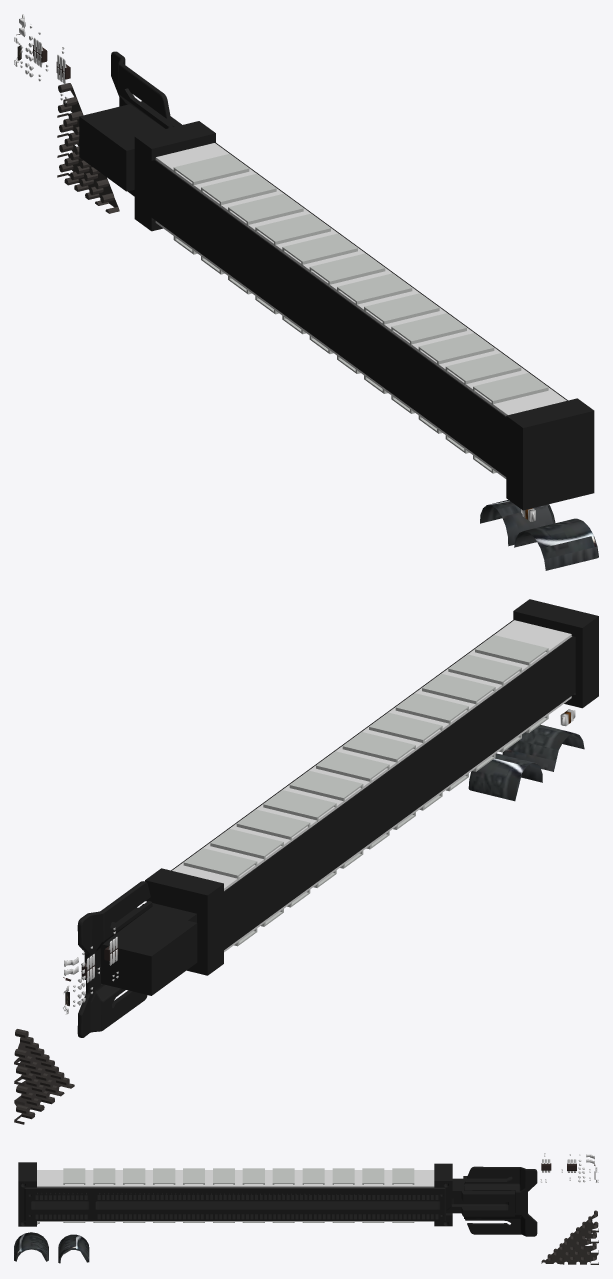
The model's file is pcie.glb.
3 views of the same model, one above another, from view 1: azimuth 30°, elevation 25°; view 2: azimuth 150°, elevation 25°; view 3: azimuth 270°, elevation 25° (orthographic). The views are drawn at different scales.
Parts seen in each view (by area): view 1: Source origin; view 2: Source origin; view 3: Source origin.
Boxes of the visible parts, box(x1,y1,x2,y2) form: Source origin: box(14, 14, 598, 570); Source origin: box(14, 599, 598, 1124); Source origin: box(14, 1153, 598, 1264).
Bounding box in the file's own units: 0.1024 × 0.2258 × 1.23.
6 materials, 3 textured.
